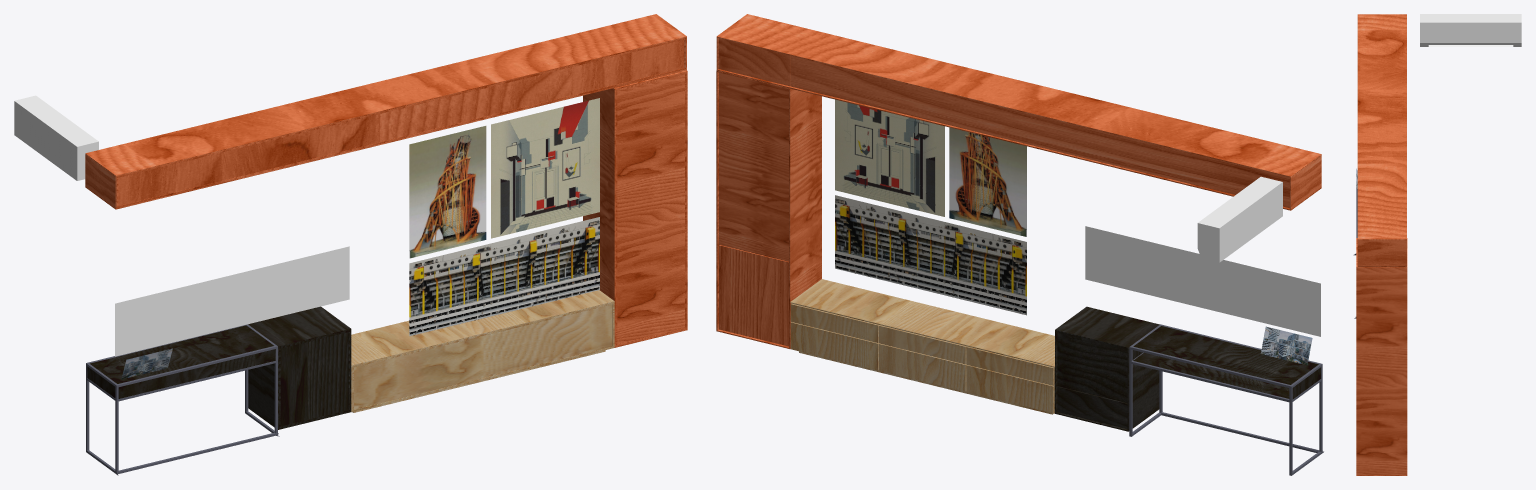
File: bedroom.gltf
3 renders of one model, left to right at view 1: azimuth 30°, elevation 25°; view 2: azimuth 150°, elevation 25°; view 3: azimuth 270°, elevation 25°, orthographic. The views are drawn at different scales.
Parts seen in each view (by area): view 1: BRG_TUM_10_02.001, BRG_TUM_3_03.001, DNT_TVT_2_05.001, Bedroom Photo Golden Mile Complex, Bedroom Mirror, Bedroom Photo Studio Sander Patelski 3, BRG_TUM_3_03.002, Стол, Bedroom Photo Tower of the III International, Bedroom Cooler, Bedroom Photo Ole Scheeren The Interlace; view 2: BRG_TUM_10_02.001, BRG_TUM_3_03.001, DNT_TVT_2_05.001, Bedroom Photo Golden Mile Complex, Bedroom Mirror, BRG_TUM_3_03.002, Bedroom Photo Studio Sander Patelski 3, Стол, Bedroom Photo Tower of the III International, Bedroom Cooler, Bedroom Photo Ole Scheeren The Interlace; view 3: BRG_TUM_10_02.001, BRG_TUM_3_03.001, Bedroom Cooler.
Boxes of the visible parts, bbox=[...] form: BRG_TUM_10_02.001: bbox=[85, 14, 686, 209]; BRG_TUM_3_03.001: bbox=[583, 70, 687, 347]; DNT_TVT_2_05.001: bbox=[351, 290, 614, 412]; Bedroom Photo Golden Mile Complex: bbox=[409, 217, 599, 336]; Bedroom Mirror: bbox=[115, 246, 349, 356]; Bedroom Photo Studio Sander Patelski 3: bbox=[491, 98, 599, 238]; BRG_TUM_3_03.002: bbox=[248, 306, 351, 429]; Стол: bbox=[86, 324, 279, 475]; Bedroom Photo Tower of the III International: bbox=[409, 126, 486, 258]; Bedroom Cooler: bbox=[14, 95, 98, 180]; Bedroom Photo Ole Scheeren The Interlace: bbox=[121, 348, 172, 379]; BRG_TUM_10_02.001: bbox=[716, 14, 1321, 210]; BRG_TUM_3_03.001: bbox=[716, 70, 821, 348]; DNT_TVT_2_05.001: bbox=[790, 279, 1054, 414]; Bedroom Photo Golden Mile Complex: bbox=[835, 195, 1026, 315]; Bedroom Mirror: bbox=[1085, 226, 1320, 336]; BRG_TUM_3_03.002: bbox=[1055, 306, 1159, 431]; Bedroom Photo Studio Sander Patelski 3: bbox=[835, 99, 944, 216]; Стол: bbox=[1129, 324, 1323, 475]; Bedroom Photo Tower of the III International: bbox=[949, 127, 1026, 236]; Bedroom Cooler: bbox=[1197, 176, 1282, 262]; Bedroom Photo Ole Scheeren The Interlace: bbox=[1260, 326, 1312, 365]; BRG_TUM_10_02.001: bbox=[1357, 14, 1406, 266]; BRG_TUM_3_03.001: bbox=[1356, 238, 1407, 475]; Bedroom Cooler: bbox=[1420, 14, 1521, 46].
Bounding box in the file's own units: 5.24 × 2.62 × 1.66.
